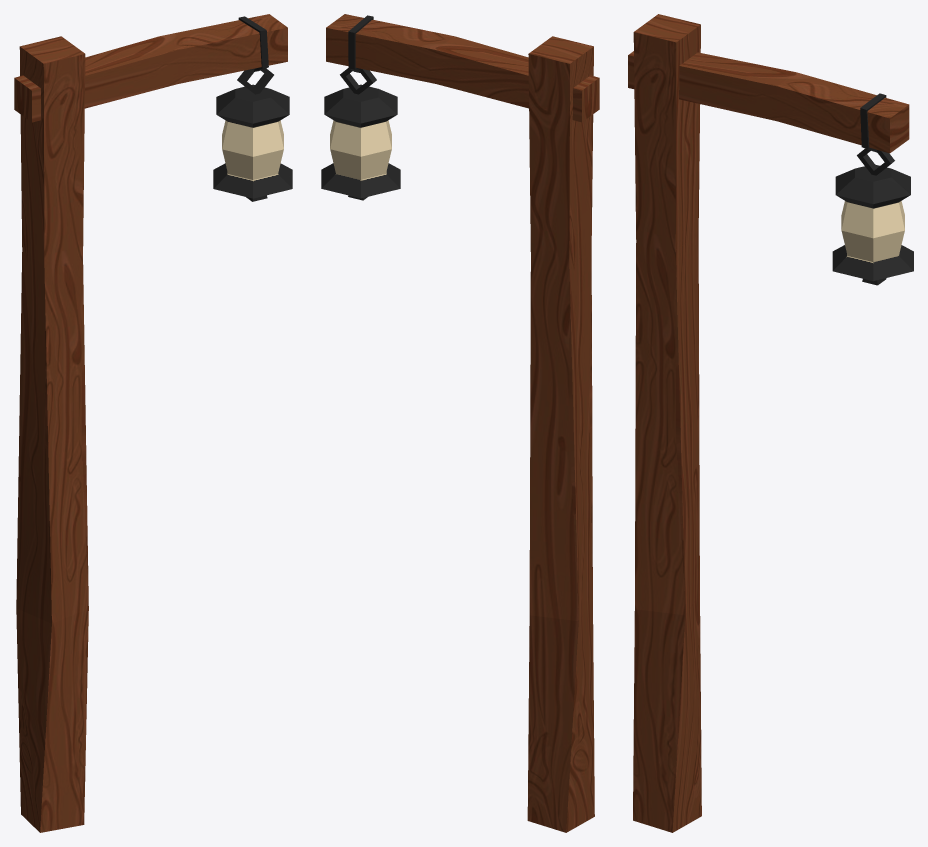
File: ARC0710018.fbx
3 renders of one model, left to right at view 1: azimuth 30°, elevation 25°; view 2: azimuth 150°, elevation 25°; view 3: azimuth 330°, elevation 25°, orthographic. The views are drawn at different scales.
Parts seen in each view (by area): view 1: smARC0710018; view 2: smARC0710018; view 3: smARC0710018.
Boxes of the visible parts, bbox=[...] form: smARC0710018: bbox=[14, 14, 292, 832]; smARC0710018: bbox=[321, 14, 599, 832]; smARC0710018: bbox=[628, 14, 913, 832].
Size of the model in its own units: 98.91 by 270 by 25.16.
Materials: 1 (1 with a texture image).
